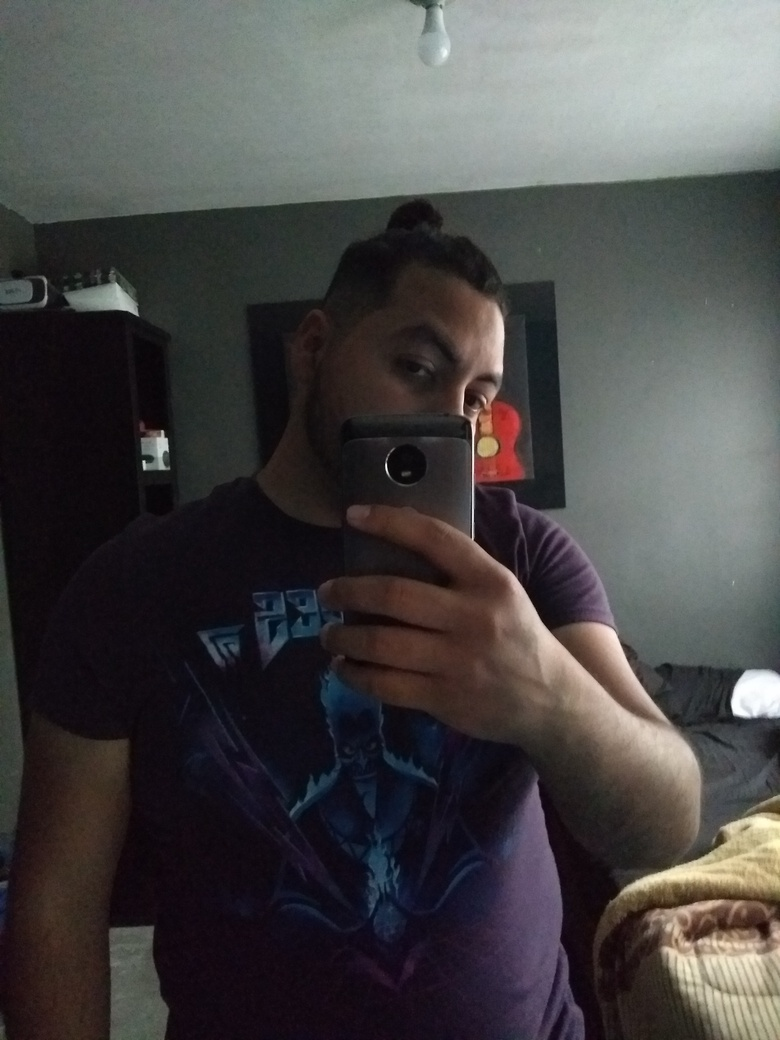Yoshi: (263, 149, 562, 531)
